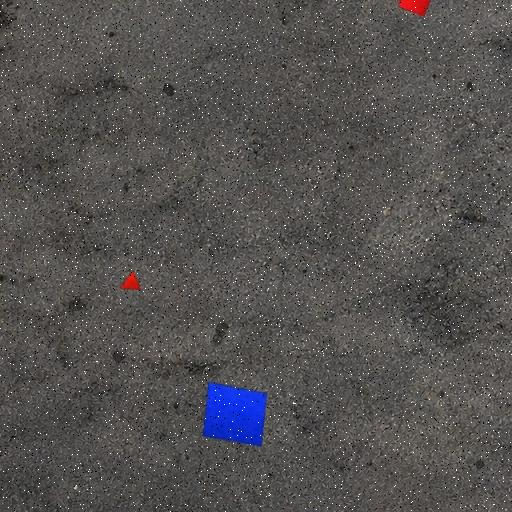BLUE_SQUARE: (202, 382, 268, 447)
RED_SQUARE: (398, 0, 436, 17)
